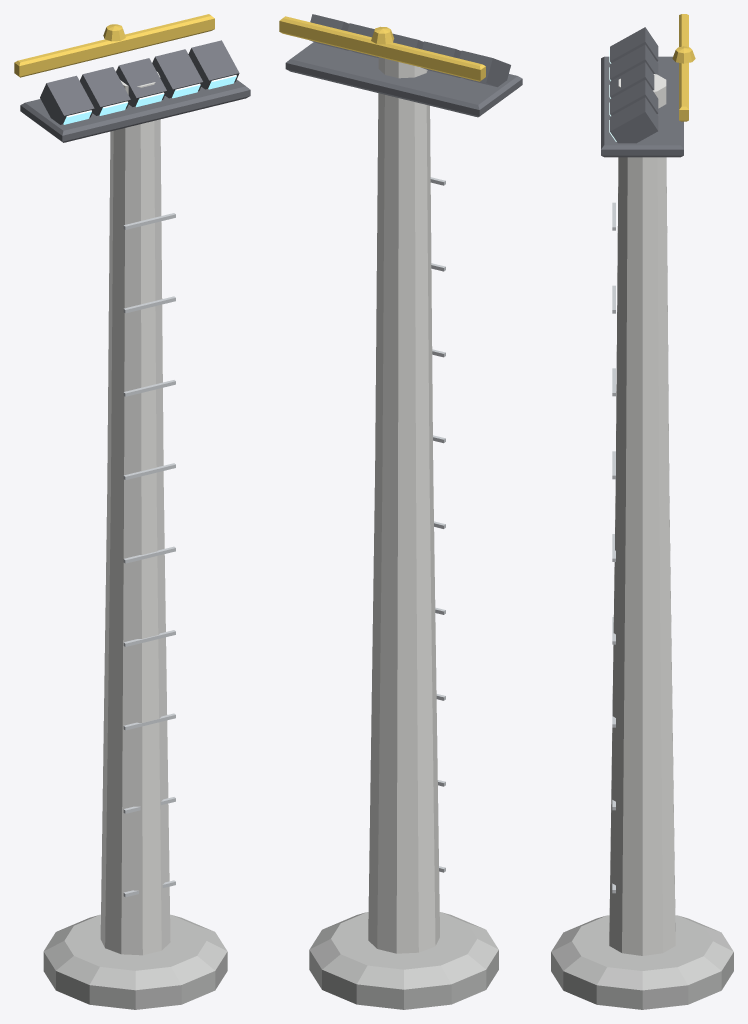
The model's file is apron_floodligh.glb.
3 views of the same model, side by side, from view 1: azimuth 30°, elevation 25°; view 2: azimuth 150°, elevation 25°; view 3: azimuth 270°, elevation 25° (orthographic). The views are drawn at different scales.
Visible parts, largest first — view 1: apron-floodlight-mast; view 2: apron-floodlight-mast; view 3: apron-floodlight-mast.
Part boxes in pixels (box(x1,y1,x2,y2)): apron-floodlight-mast: box(14, 14, 250, 1009); apron-floodlight-mast: box(279, 14, 522, 1009); apron-floodlight-mast: box(551, 14, 733, 1009).
Bounding box in the file's own units: 2.7 × 12.26 × 2.2.
Materials: 1 (1 with a texture image).
